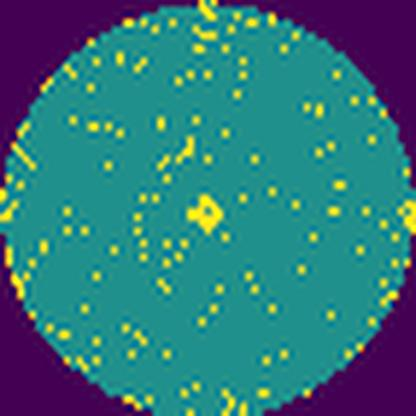Center: (187, 193, 225, 234)
